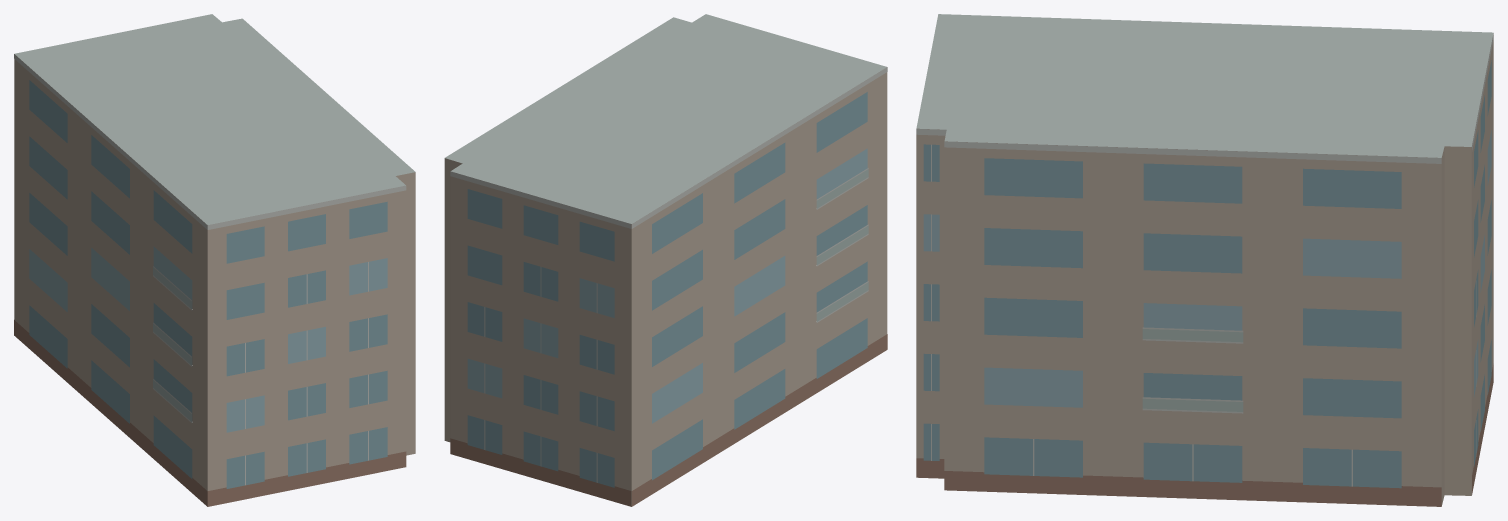
File: survey-upis-32764718.glb
3 renders of one model, left to right at view 1: azimuth 30°, elevation 25°; view 2: azimuth 150°, elevation 25°; view 3: azimuth 270°, elevation 25°, orthographic. The views are drawn at different scales.
Visible parts, largest first — view 1: survey-upis-32764718.tmp; view 2: survey-upis-32764718.tmp; view 3: survey-upis-32764718.tmp.
Boxes of the visible parts, x1,y1,x2,y2 form: survey-upis-32764718.tmp: (14,14,415,506); survey-upis-32764718.tmp: (444,14,887,506); survey-upis-32764718.tmp: (916,14,1493,506).
Bounding box in the file's own units: 12.39 × 14 × 21.
